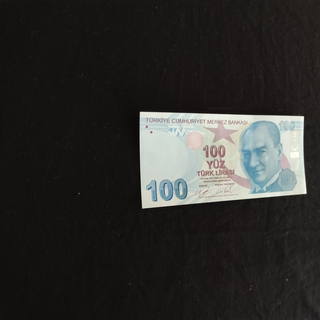100TLFront: (137, 110, 307, 209)
